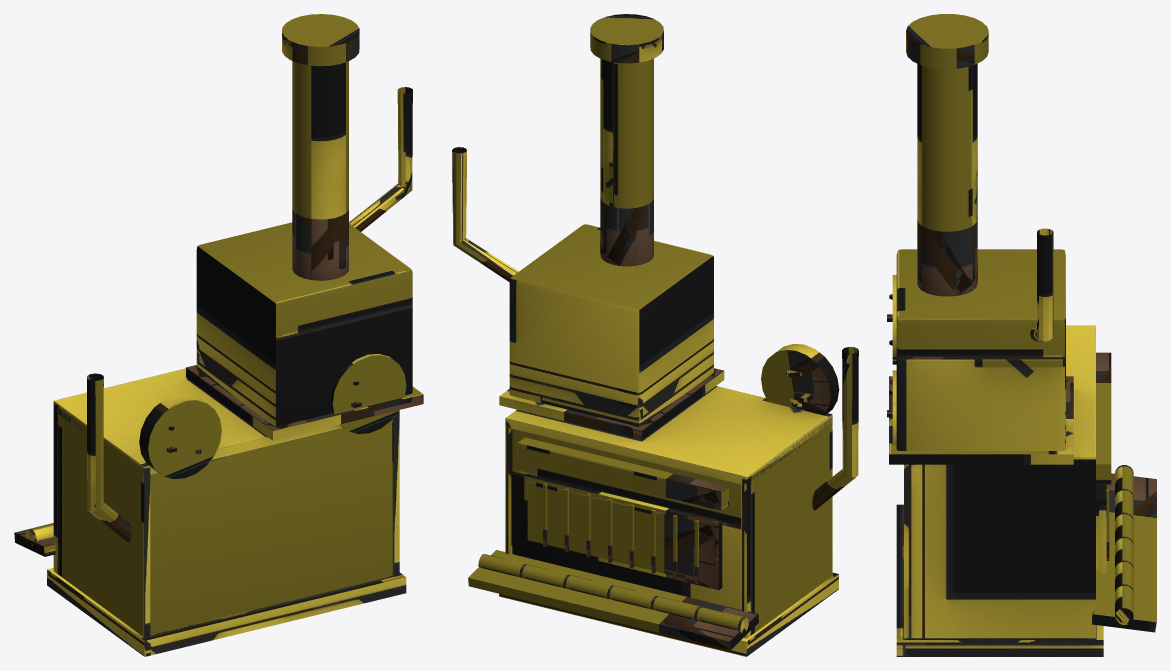
The model's file is DD_furnace_large.glb.
The picture shows the model from 3 angles, left to right: view 1: azimuth 30°, elevation 25°; view 2: azimuth 150°, elevation 25°; view 3: azimuth 270°, elevation 25°; orthographic projection. The views are drawn at different scales.
Visible parts, largest first — view 1: DD_furnace_large; view 2: DD_furnace_large; view 3: DD_furnace_large.
Part boxes in pixels (bbox=[...]): DD_furnace_large: bbox=[14, 14, 423, 656]; DD_furnace_large: bbox=[452, 14, 858, 656]; DD_furnace_large: bbox=[887, 14, 1156, 656].
Bounding box in the file's own units: 2.44 × 3.48 × 1.43.
Materials: 1 (1 with a texture image).
